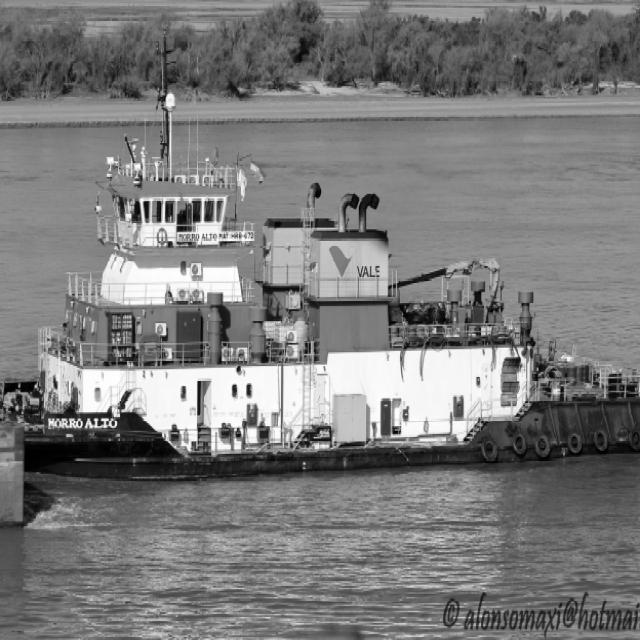tugboat: (1, 138, 640, 475)
